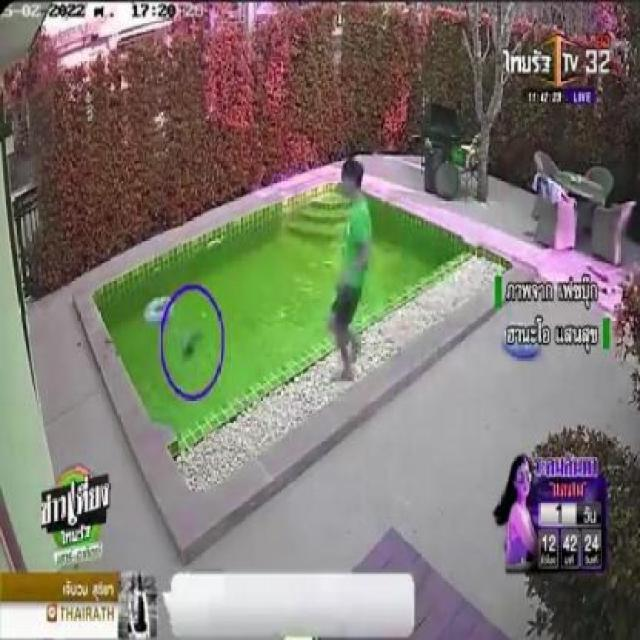drowning: (175, 315, 207, 370)
